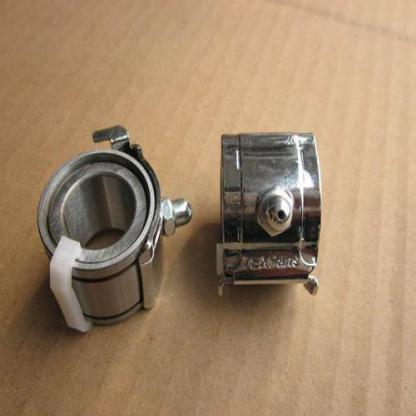FOD: (35, 143, 170, 332)
